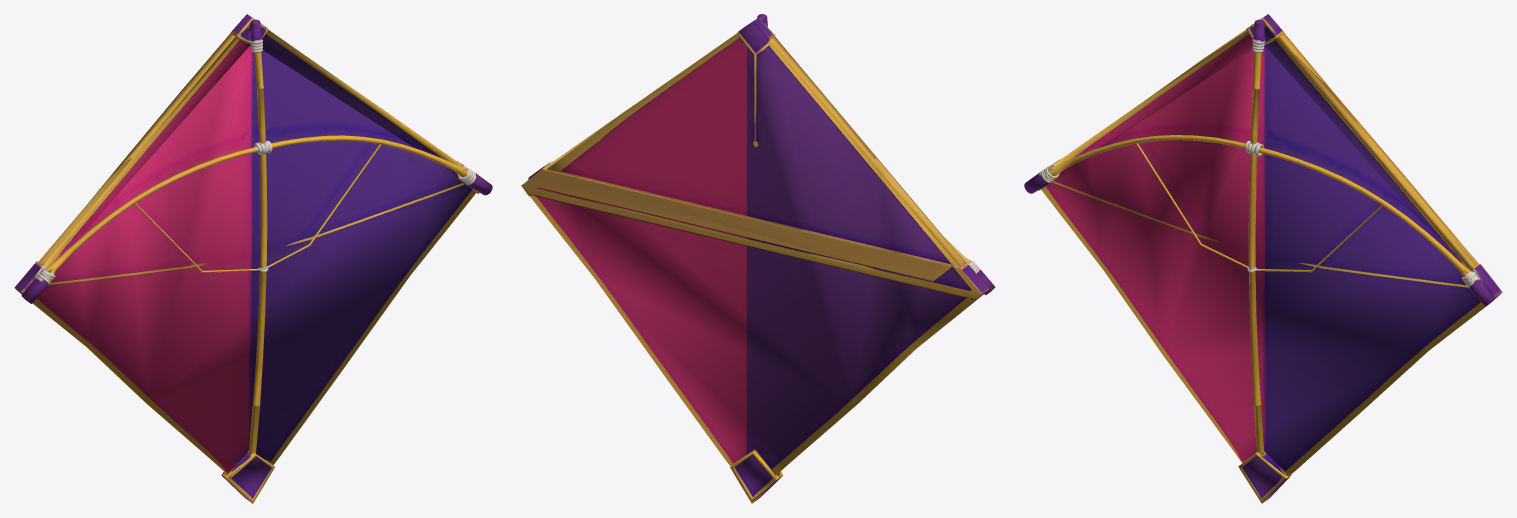
Rendered from colorful+diamond+kite+3d+model.glb.
The picture shows the model from 3 angles, left to right: view 1: azimuth 30°, elevation 25°; view 2: azimuth 150°, elevation 25°; view 3: azimuth 330°, elevation 25°; orthographic projection.
Parts seen in each view (by area): view 1: tripo_node_6f197d8b-9260-4bd9-a9b7-d826ec36a2d7; view 2: tripo_node_6f197d8b-9260-4bd9-a9b7-d826ec36a2d7; view 3: tripo_node_6f197d8b-9260-4bd9-a9b7-d826ec36a2d7.
Part boxes in pixels (box(x1,y1,x2,y2)): tripo_node_6f197d8b-9260-4bd9-a9b7-d826ec36a2d7: box(14, 14, 492, 503); tripo_node_6f197d8b-9260-4bd9-a9b7-d826ec36a2d7: box(521, 14, 995, 503); tripo_node_6f197d8b-9260-4bd9-a9b7-d826ec36a2d7: box(1024, 14, 1502, 503).
Size of the model in its own units: 0.9995 by 0.9897 by 0.0796.
1 material, 1 textured.
